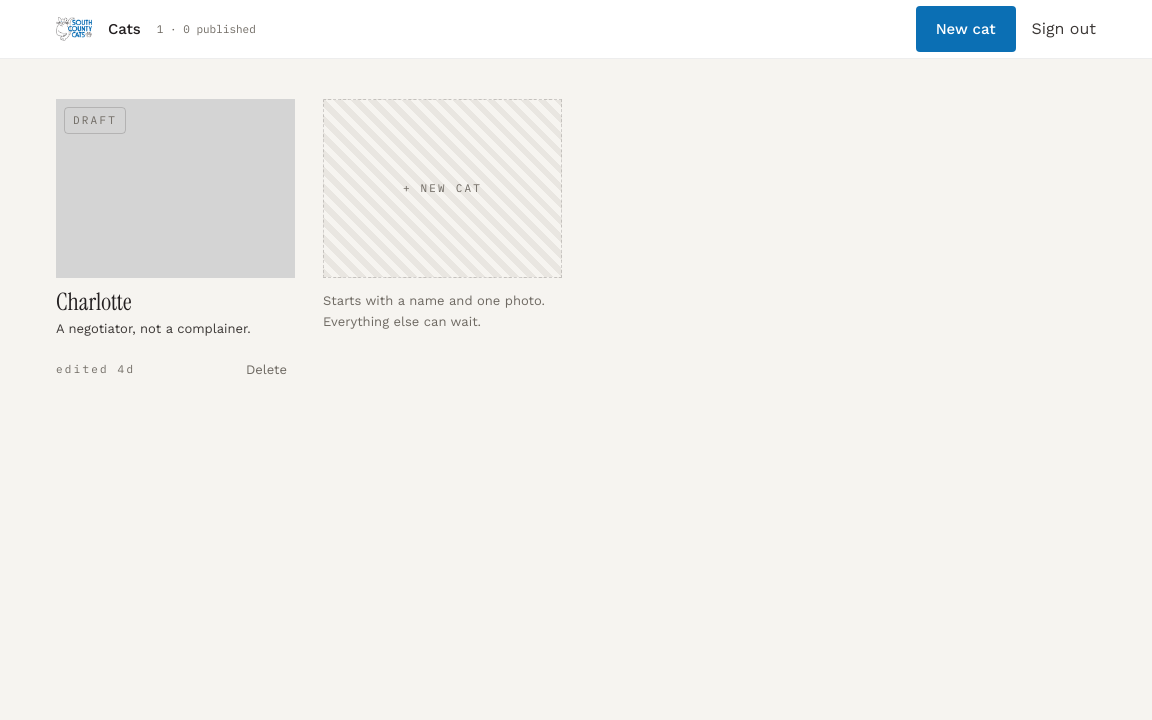
Test: ProfileList › shows the refusal when the server will not delete
Click the button with aria-label "Delete Charlotte" at (266, 369), box [238,347,295,391]
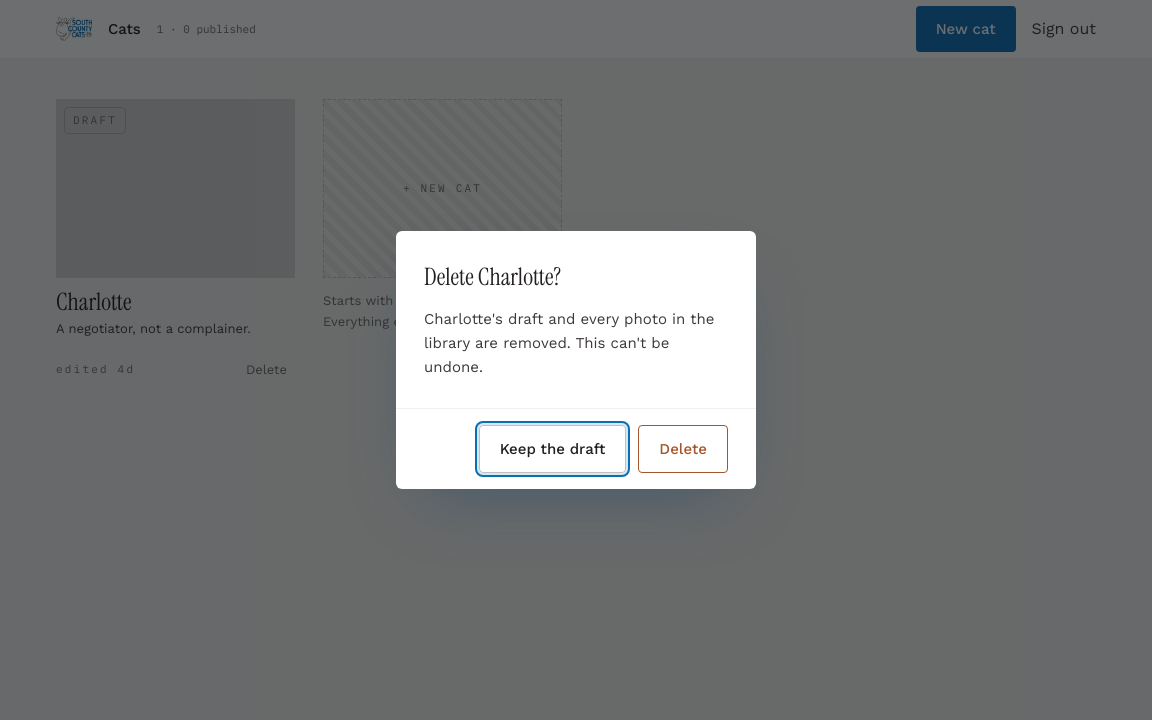
Click the button "Delete" at (683, 449), box [638,425,728,473]
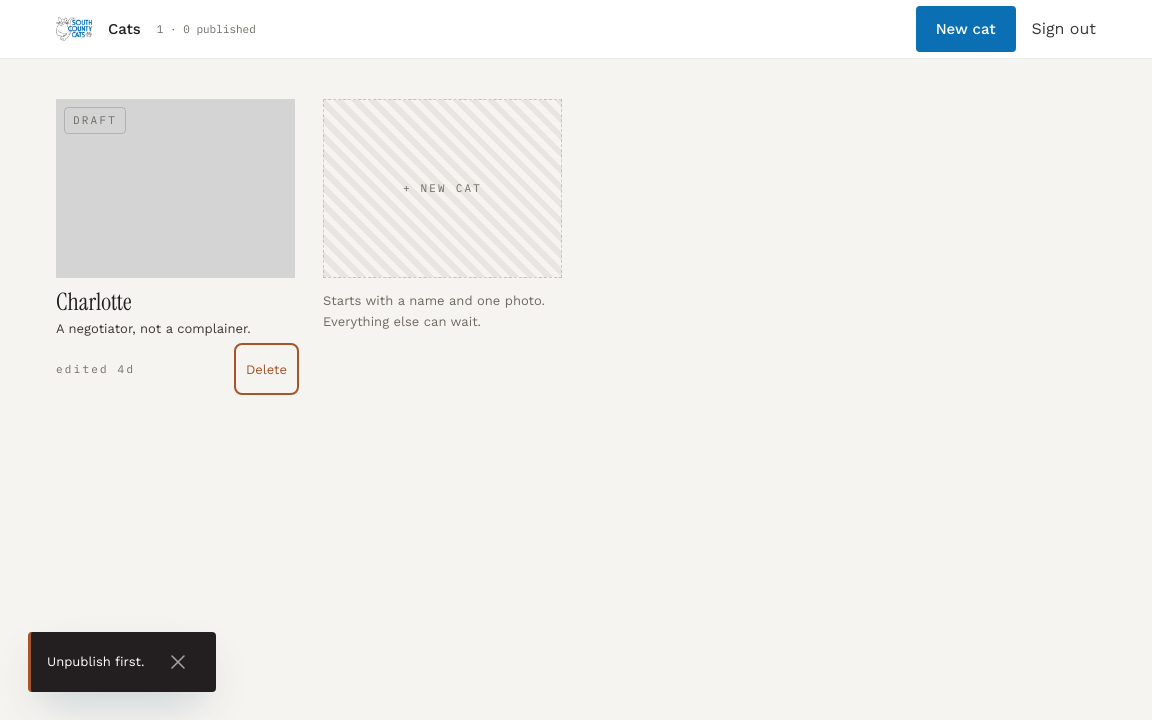
Expected: the message reads "Unpublish first.", [47,654,144,669]
